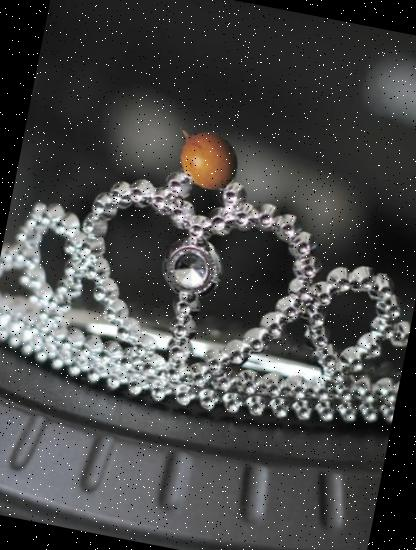Granadilla: (162, 111, 250, 200)
